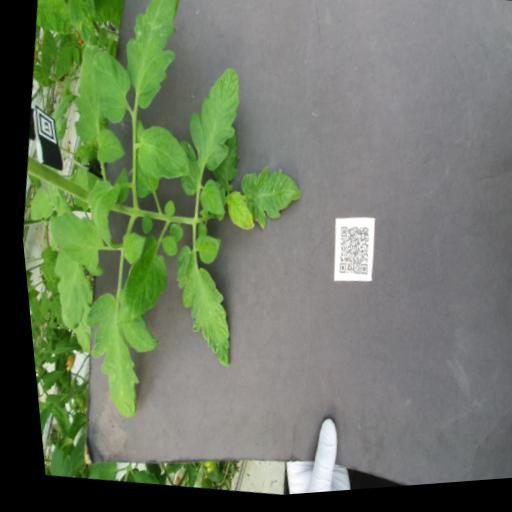Healthy: (152, 230, 242, 373), (101, 229, 173, 334), (36, 206, 106, 281), (81, 47, 136, 129), (128, 121, 195, 188), (74, 175, 127, 253), (190, 177, 227, 221), (89, 126, 127, 166)
